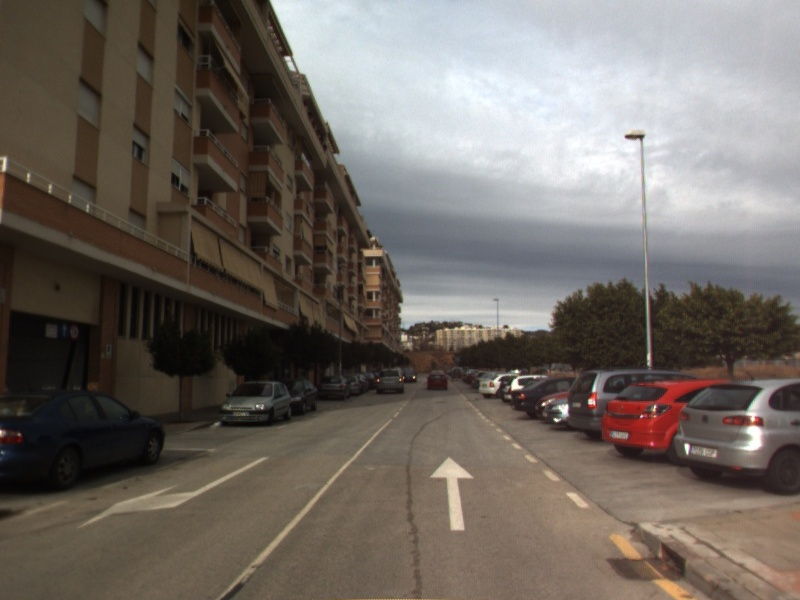STRAIGHT: (428, 454, 477, 533)
